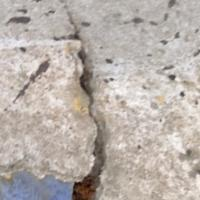crack: (55, 5, 126, 199)
